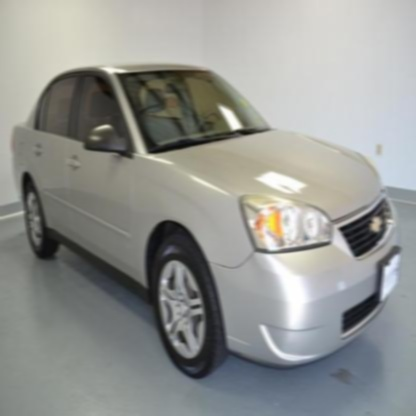Vehicle: (1, 52, 410, 388)
